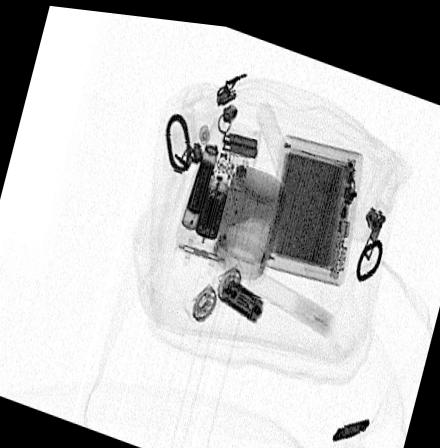Powerbank: (257, 127, 365, 279)
